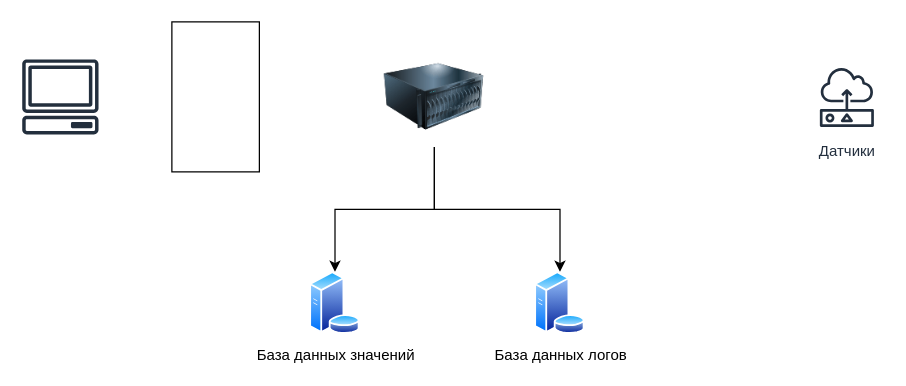
Image size: 906x386. Some labels were removed from this diagram. Here are the shapes that lost their labels. From the top down, the centre of each, then its label:
(215,96): TCP/IP чё-то там
(434,96): Сервер
